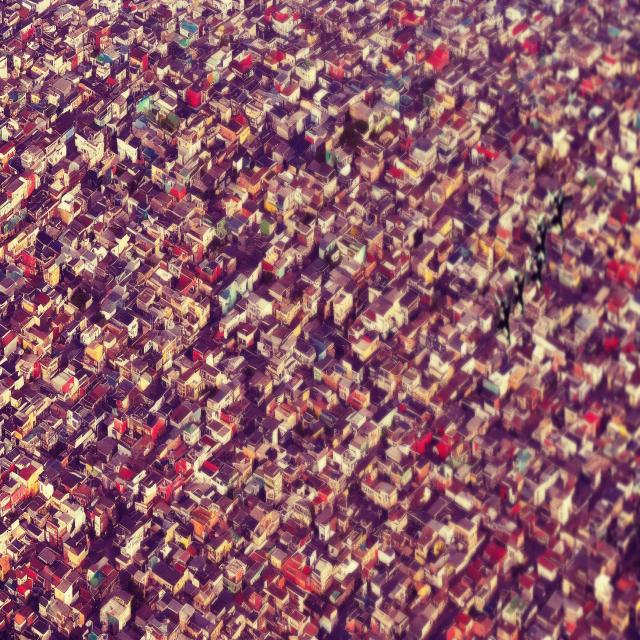airplane: (495, 296, 512, 341), (512, 271, 527, 316), (549, 193, 565, 234), (533, 222, 548, 263), (528, 252, 543, 291)
